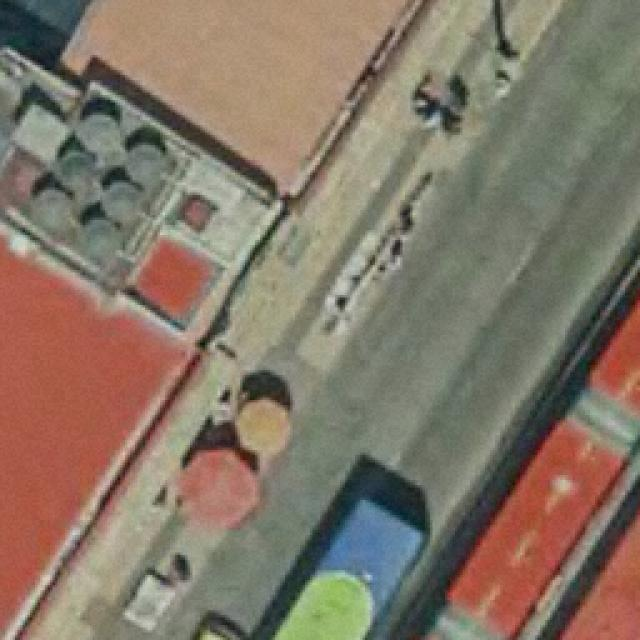vendedor_ambulante: (176, 446, 261, 534), (233, 395, 297, 457)
